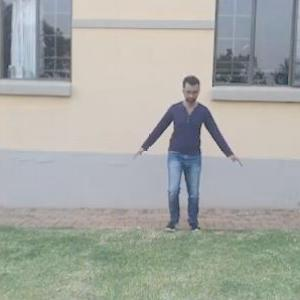land: (127, 74, 250, 236)
